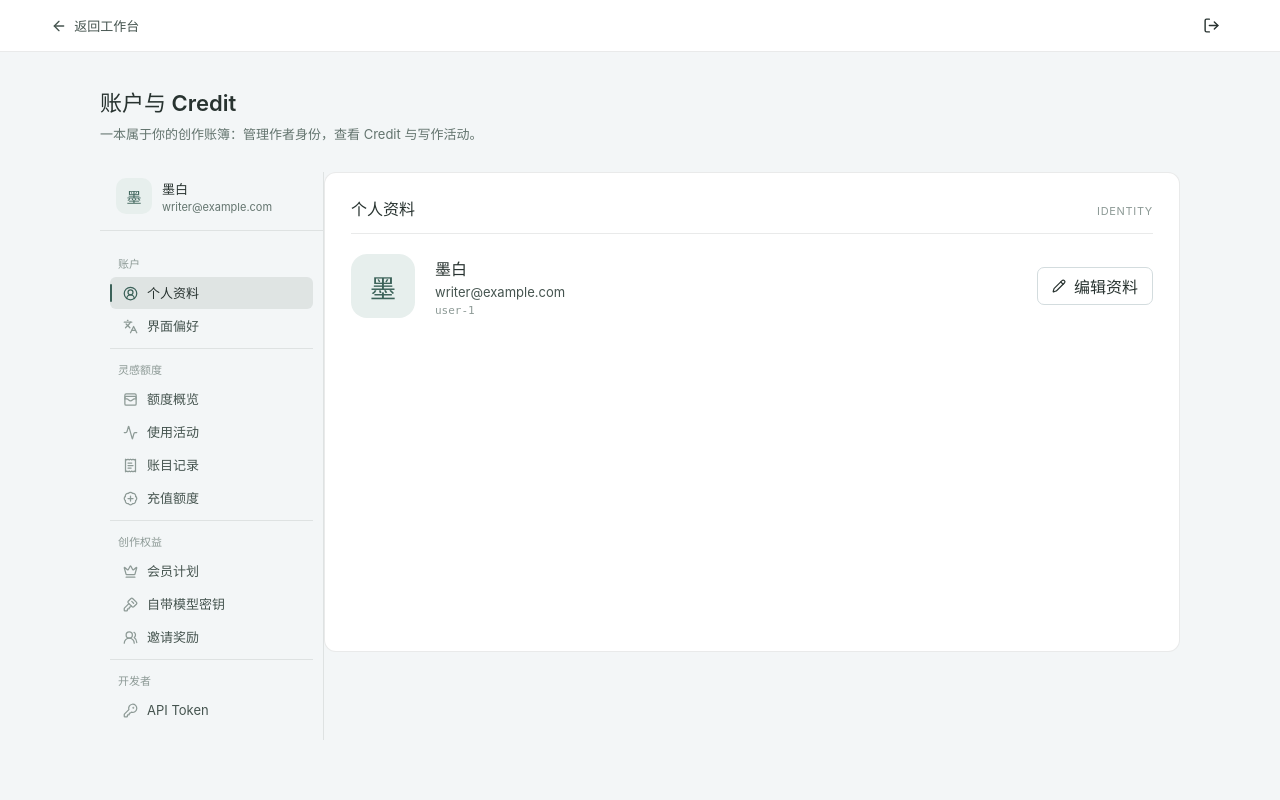
ProfilePage › renders only the default profile panel and switches from desktop navigation
Expected: the button "编辑资料" is shown, [1037, 267, 1153, 305]
Click the button "额度概览": (212, 399) [110, 383, 313, 415]
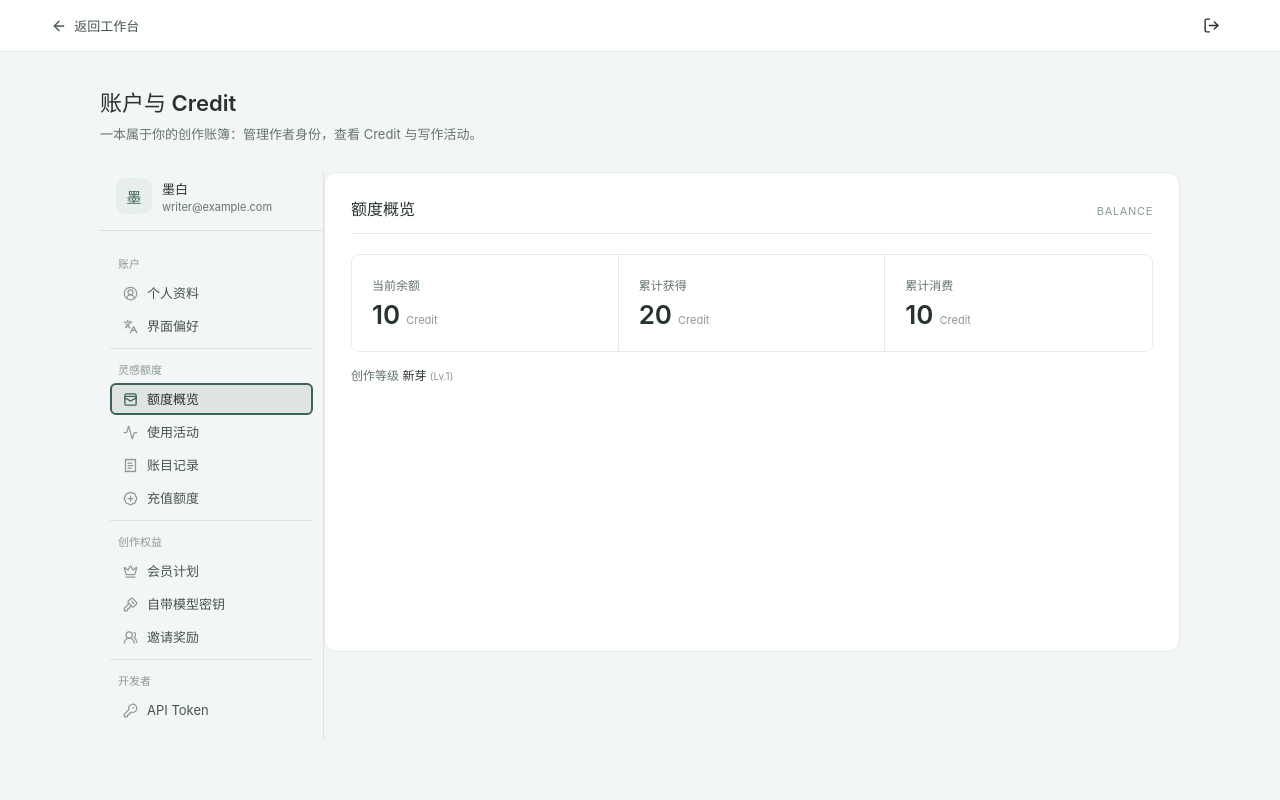
Now the element "额度概览" is shown, box [324, 172, 1180, 652]
